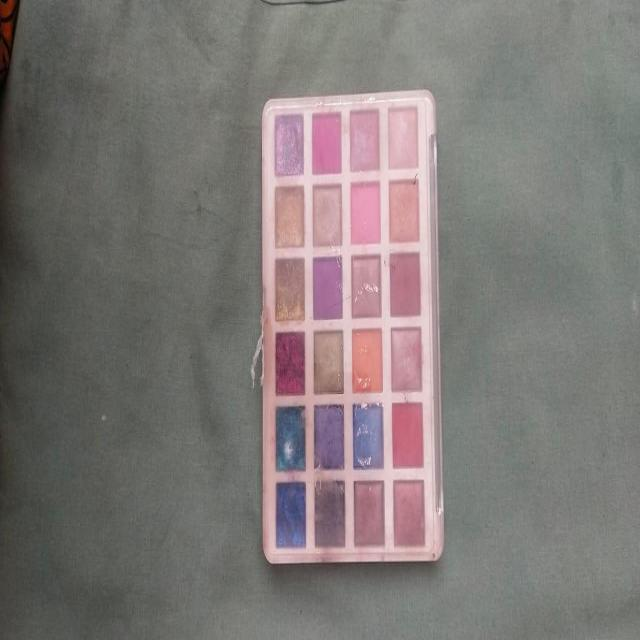eye shade: (276, 408, 424, 544), (275, 256, 306, 320), (390, 253, 421, 317), (272, 116, 306, 174), (391, 329, 422, 391), (352, 254, 382, 318), (352, 332, 382, 393), (314, 113, 342, 177), (315, 333, 343, 395), (388, 110, 418, 166), (390, 183, 420, 239), (314, 264, 344, 320), (352, 185, 381, 242), (314, 117, 342, 176), (349, 117, 380, 170), (275, 192, 304, 247), (277, 338, 305, 394), (313, 192, 341, 246)
